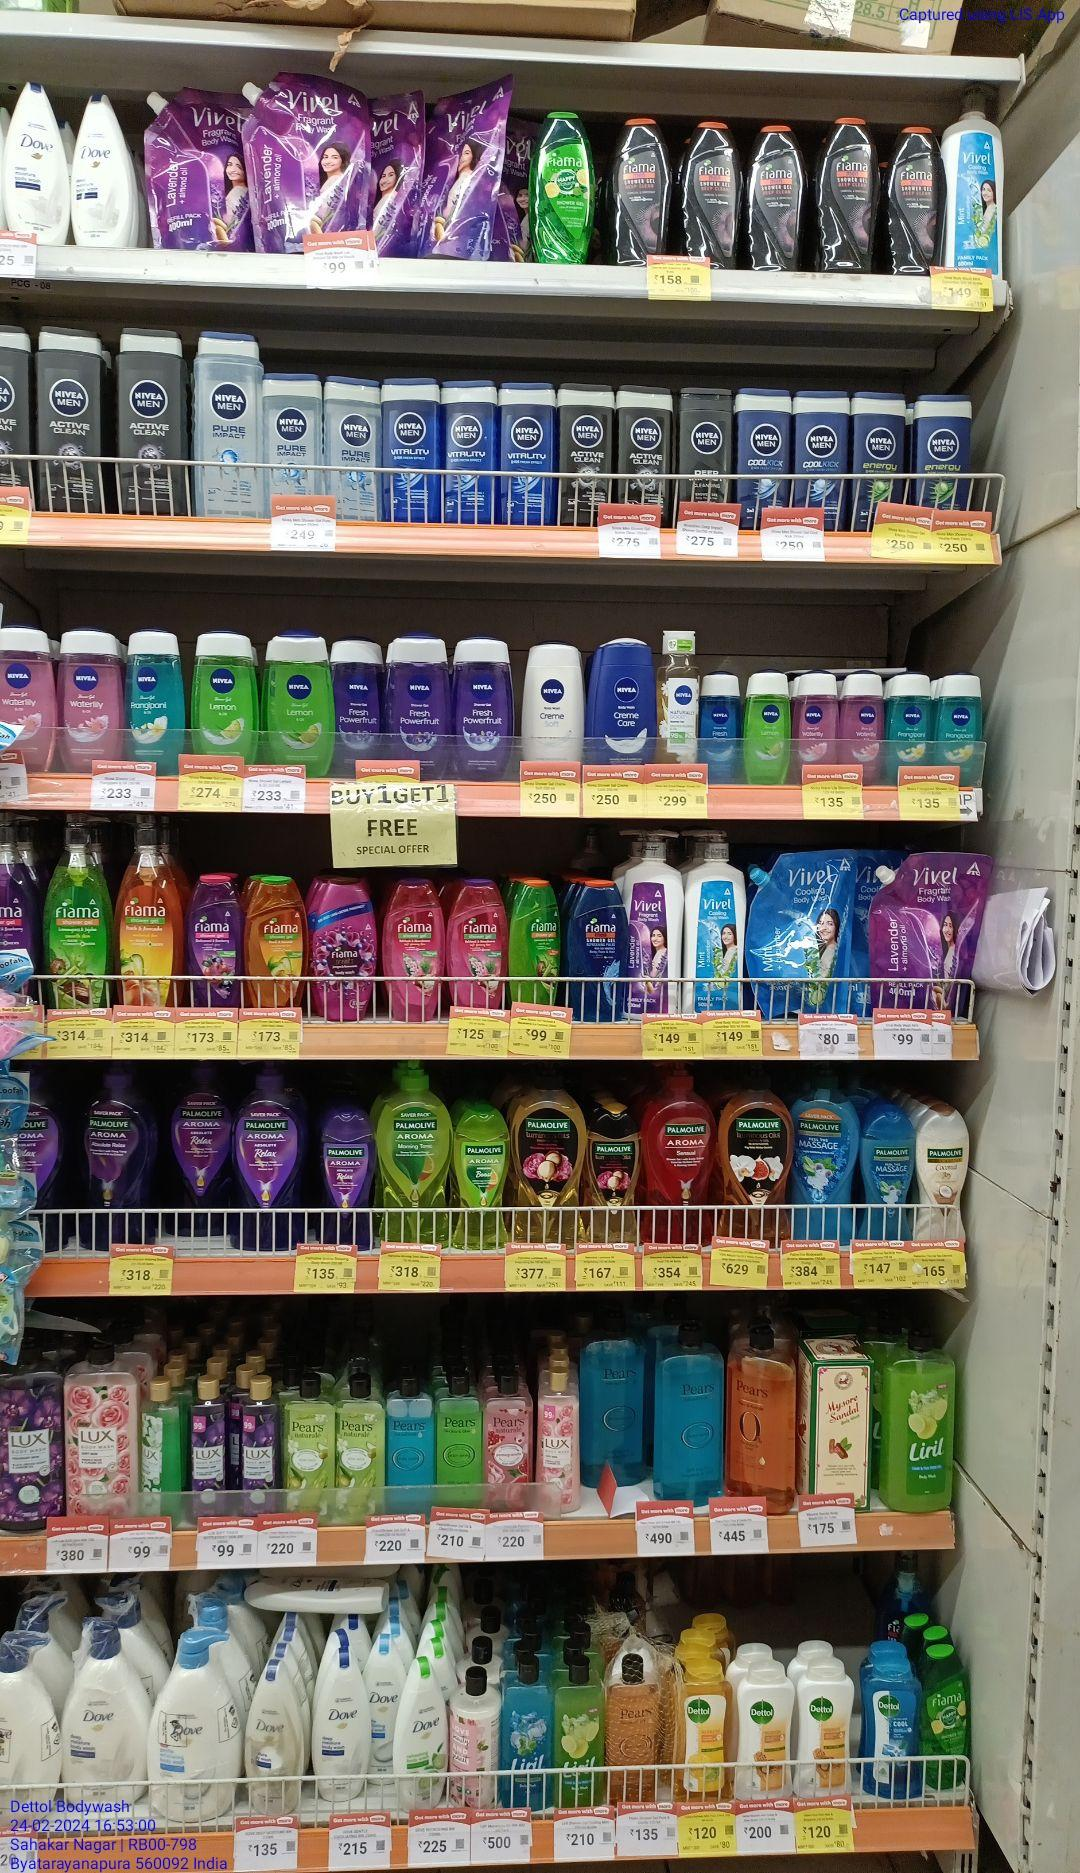Dettol_Bodywash_Cool: (865, 1649, 921, 1797)
Dettol_Bodywash_Refresh: (672, 1659, 730, 1800)
Dettol_Nourish_Body_Wash_250ML: (737, 1666, 793, 1798), (797, 1661, 851, 1796)
Dove_Deep_Moisture_Body_Wash_250ML: (5, 80, 69, 244), (73, 87, 134, 242), (312, 1650, 369, 1801), (244, 1672, 297, 1813)
Dove_Refreshing_Body_Wash_250ML: (393, 1659, 449, 1810)
Fiama_Shower_Gel_Patchouli_and_Macadamia_250ML: (383, 877, 444, 1021), (447, 873, 507, 1006)
Fiama_Shower_Gel_Peach_and_Avocado_250ML: (244, 868, 305, 1002)
Joy_Shower_Gel_Mint_and_Eucalyptus_250ML: (510, 881, 561, 1001)
Liril_Cooling_Mint_Body_Wash_250ML: (501, 1667, 553, 1807)
Liril_Lime_and_Tea_Tree_Oil_Body_Wash_250ML: (557, 1657, 606, 1806)
Lux_Black_Orchid_Scent_and_Juniper_Oil_Body_Wash_245ML: (238, 1370, 278, 1492), (186, 1383, 230, 1491)
Lux_Body_Wash_Skin_Detox_Freesia_Scent_and_Alove_Vera_245ML: (143, 1379, 175, 1518)
Nivea_Creme_Care_Body_Wash_250ML: (590, 638, 651, 762)
Nivea_Creme_Soft_Body_Wash_250ML: (521, 638, 585, 765)
Nivea_Shower_Gel_Frangipani_and_Oil_250ML: (129, 633, 185, 754), (935, 672, 982, 767), (886, 674, 928, 764)
Nivea_Shower_Gel_Fresh_Powerfruit_250ML: (386, 635, 455, 760), (458, 637, 513, 781), (339, 643, 383, 759)
Nivea_Shower_Gel_Lemon_and_Oil_250ML: (265, 634, 336, 765), (193, 629, 258, 760), (739, 674, 789, 787)
Nivea_Shower_Gel_Waterlily_and_Oil_250ML: (59, 630, 125, 759), (0, 629, 57, 750), (791, 669, 837, 768), (841, 673, 882, 760)
Palmolive_Aroma_Moments_Feel_The_Massage_Shower_Gel_250ML: (860, 1105, 914, 1235)
Palmolive_Aroma_Relax_250ML: (321, 1106, 372, 1247)
Palmolive_Coconut_Joy_Exfoliating_Body_Wash_250ML: (917, 1105, 969, 1236)
Palmolive_Luminous_Oils_Invigorating_Macadamia_Oil_With_Peony_250ML: (584, 1110, 640, 1241)
Pears_Naturale_Aloe_Vera_Body_Wash_250ML: (282, 1378, 334, 1490), (336, 1376, 384, 1486)
Pears_Pure_Glycerin_and_Lemon_Flower_Extracts_Body_Wash_250ML: (435, 1379, 482, 1483)
Pears_Pure_Glycerin_and_Mint_Extracts_Body_Wash_250ML: (386, 1375, 429, 1487)
